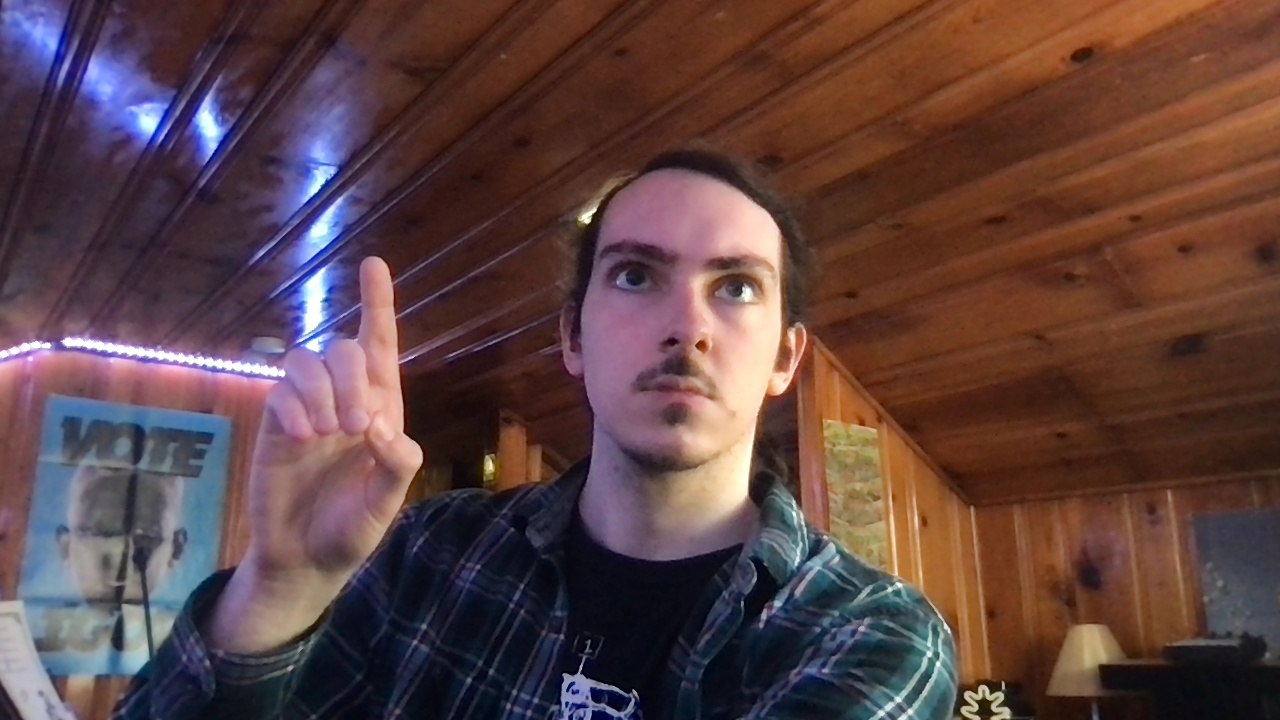d: (244, 254, 426, 579)
